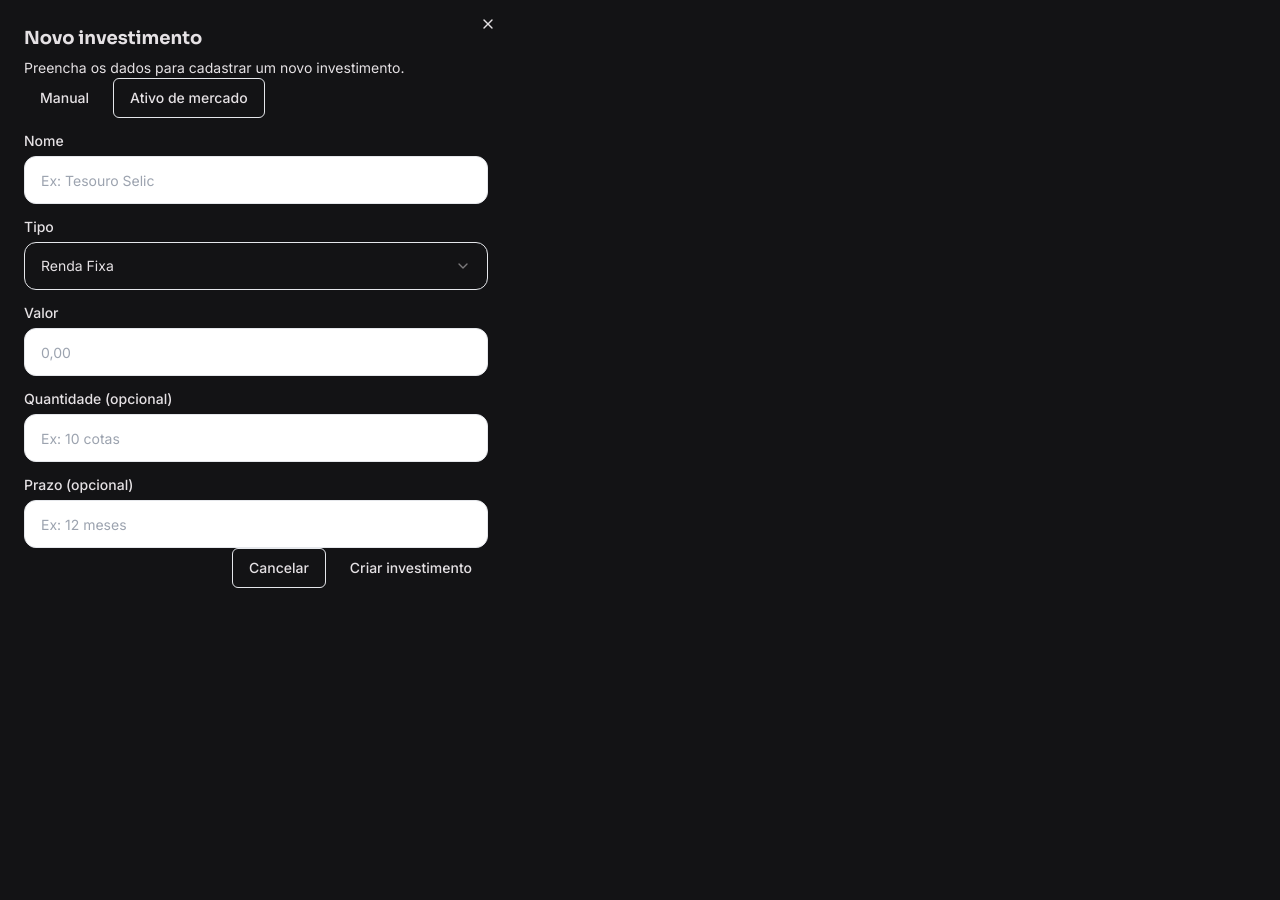
Test case: InvestmentFormDialog — histórico do ticker › exibe mensagem amigável e mantém o formulário utilizável quando não há cotação
This screenshot has width=1280, height=900.
Click the button "Ativo de mercado". click: click(189, 98)
box: [113,78,265,118]
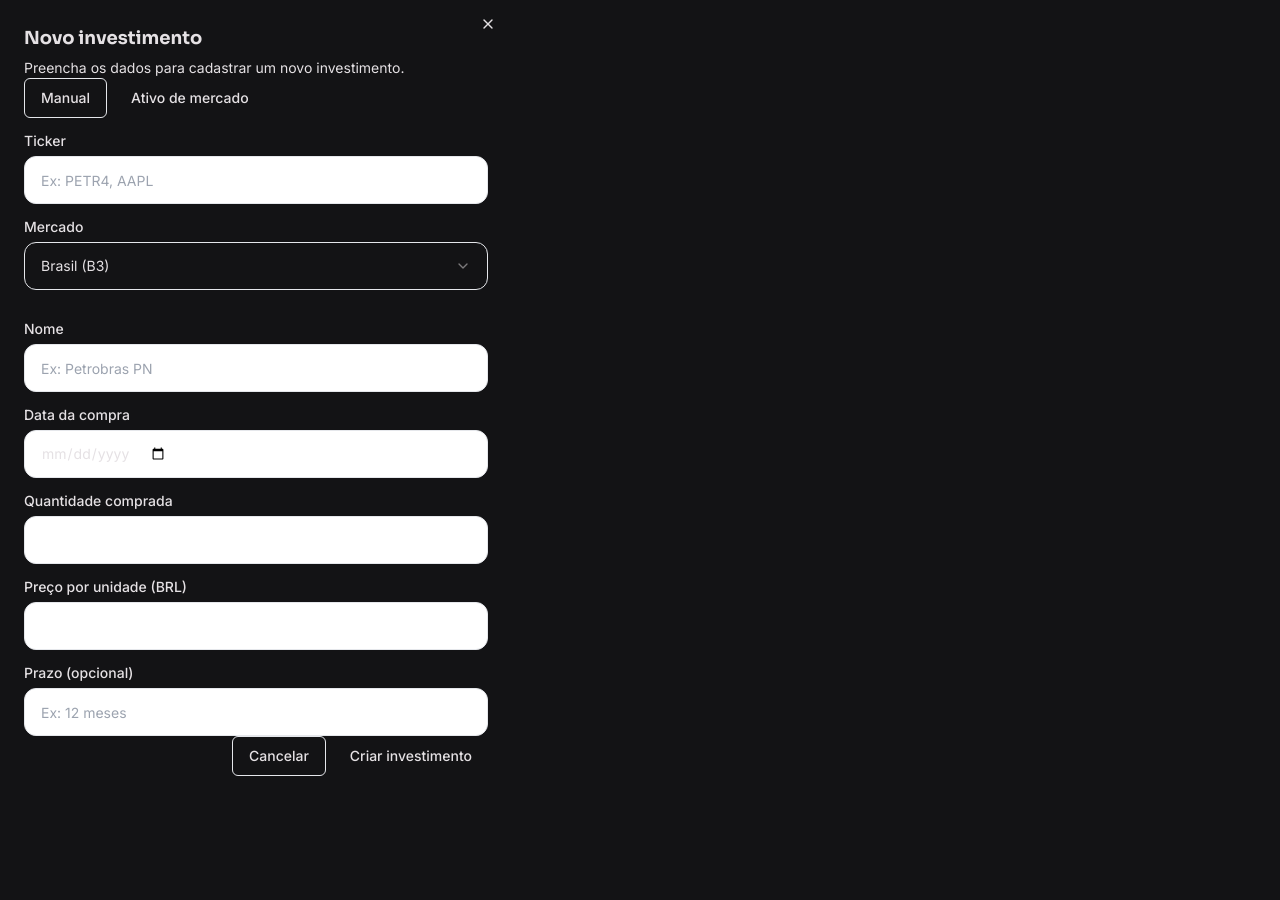
Type "ZZZZ9" into the field labelled "Ticker". click: (256, 180)
box: [24,156,488,204]
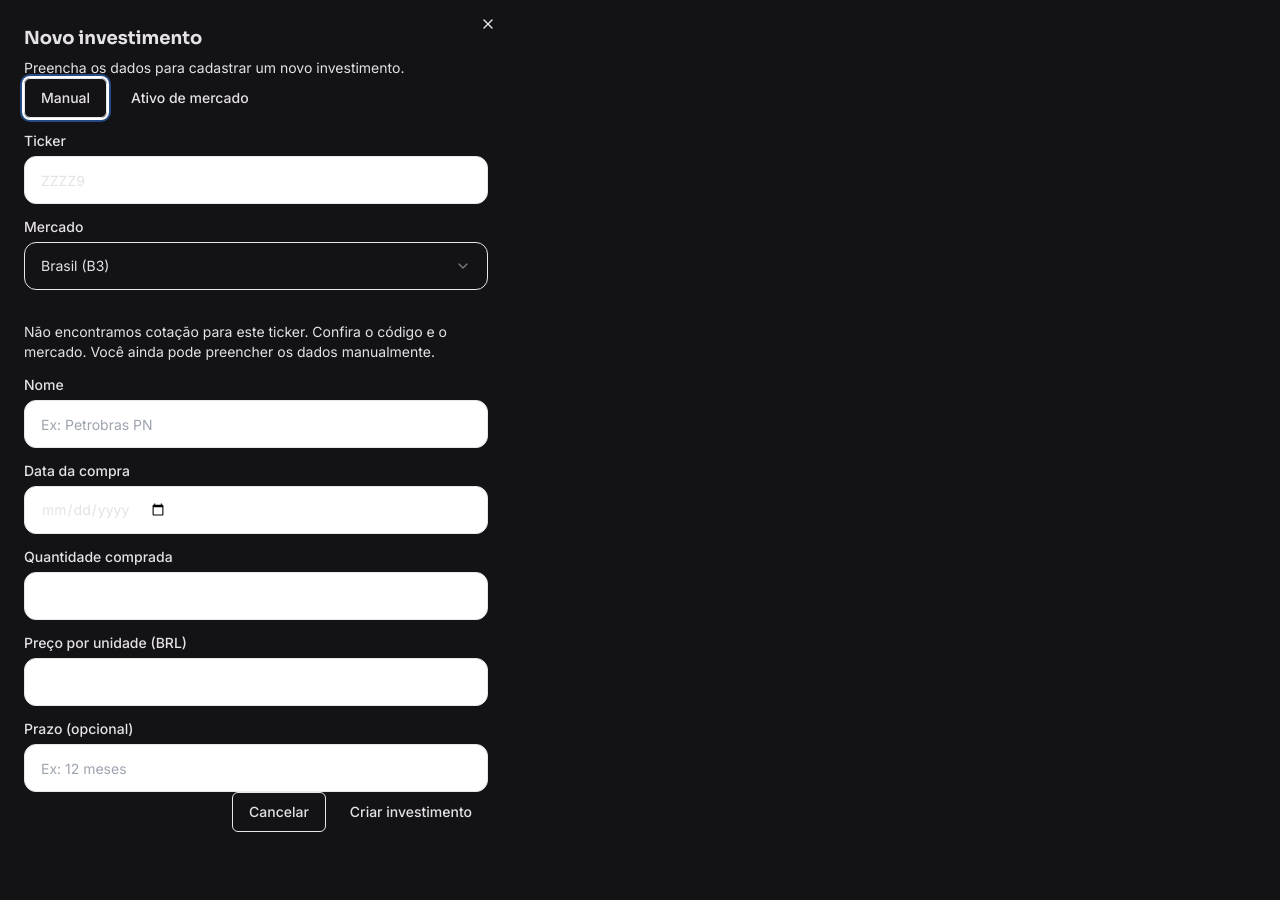
Expected: the number field labelled "Preço por unidade (BRL)" is enabled, [24,658,488,706]
Expected: the text "Não encontramos cotação" is shown, [24,323,447,360]
